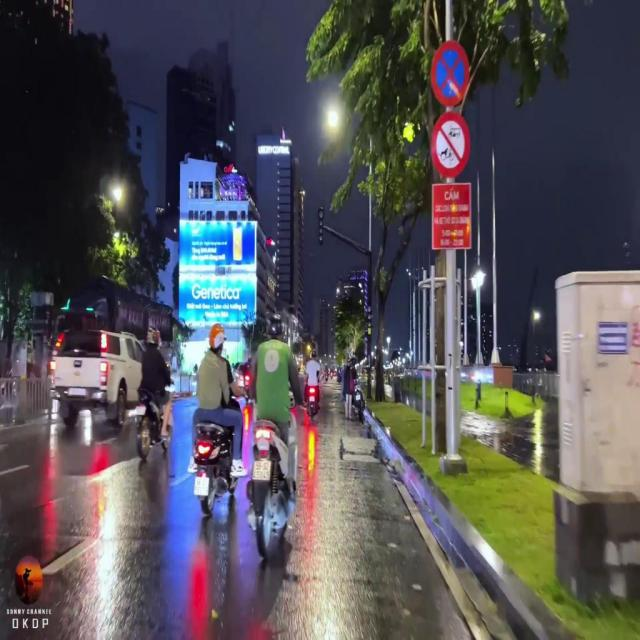cam_cac_loai_xe_3_banh: (431, 112, 469, 177)
cam_dung_xe_va_do_xe: (431, 39, 468, 105)
